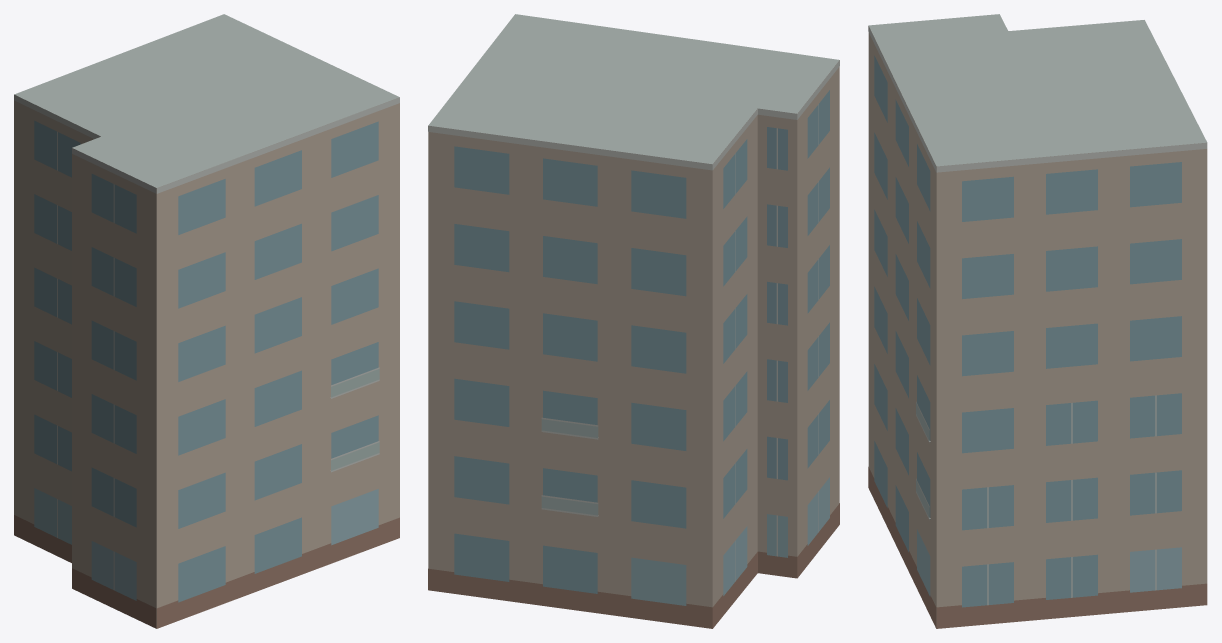
Rendered from survey-upis-33035556.glb.
3 renders of one model, left to right at view 1: azimuth 30°, elevation 25°; view 2: azimuth 150°, elevation 25°; view 3: azimuth 270°, elevation 25°, orthographic. The views are drawn at different scales.
Parts seen in each view (by area): view 1: survey-upis-33035556.tmp; view 2: survey-upis-33035556.tmp; view 3: survey-upis-33035556.tmp.
Boxes of the visible parts, bbox=[...] form: survey-upis-33035556.tmp: bbox=[14, 14, 399, 628]; survey-upis-33035556.tmp: bbox=[428, 14, 839, 628]; survey-upis-33035556.tmp: bbox=[868, 14, 1207, 628].
Size of the model in its own units: 12.95 by 18.3 by 12.17.
